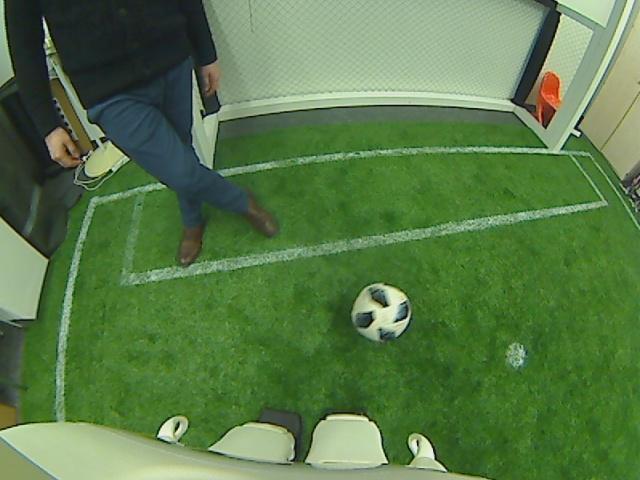ball: (348, 284, 411, 341)
